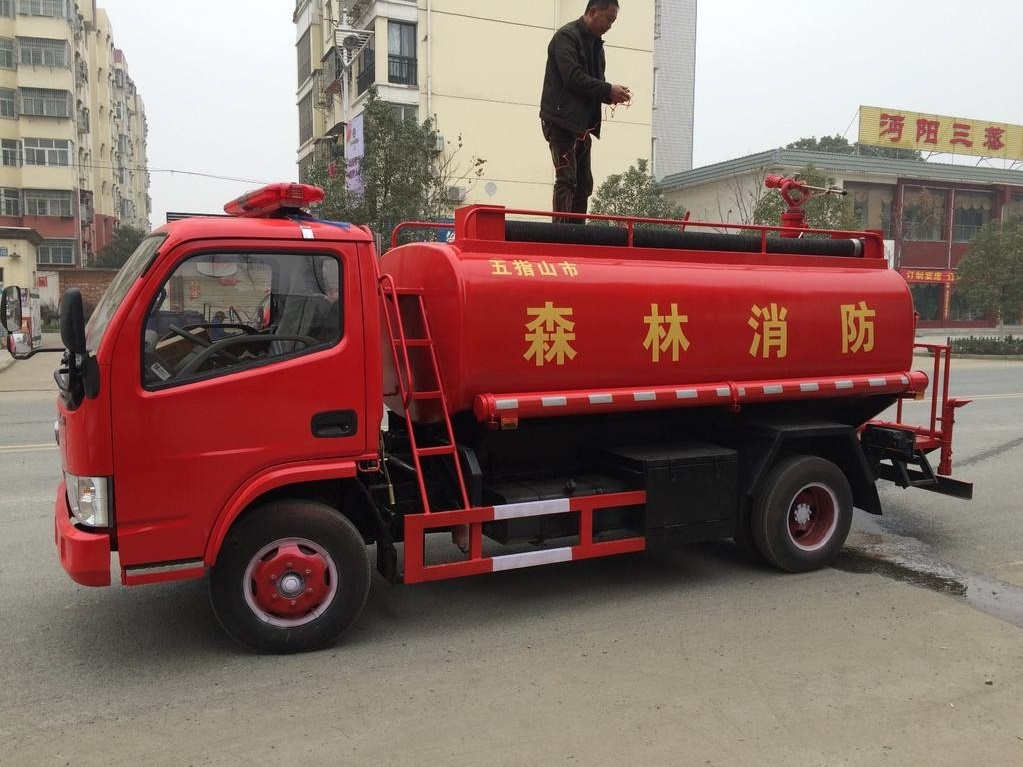fire engine: (25, 173, 951, 639)
